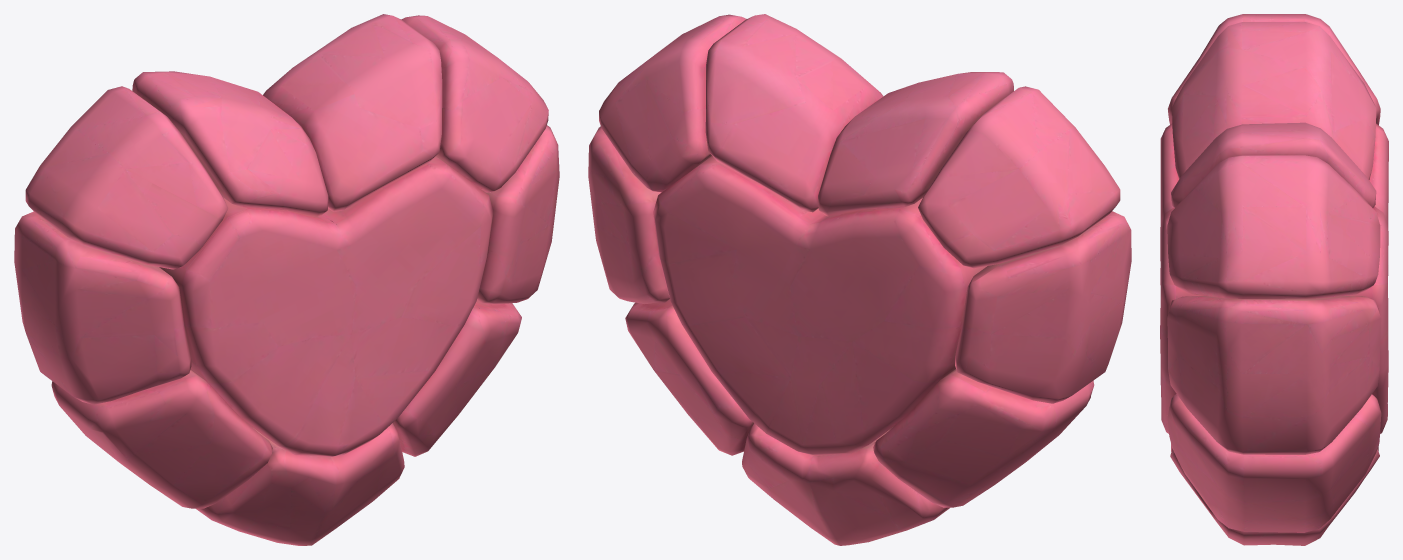
The model's file is heartstone.glb.
3 views of the same model, side by side, from view 1: azimuth 30°, elevation 25°; view 2: azimuth 150°, elevation 25°; view 3: azimuth 270°, elevation 25° (orthographic). The views are drawn at different scales.
Parts seen in each view (by area): view 1: geometry_0; view 2: geometry_0; view 3: geometry_0.
Boxes of the visible parts, x1,y1,x2,y2 form: geometry_0: (14, 14, 559, 545); geometry_0: (588, 14, 1131, 545); geometry_0: (1160, 14, 1388, 545).
Bounding box in the file's own units: 1 × 0.9192 × 0.4123.
1 material, 1 textured.
